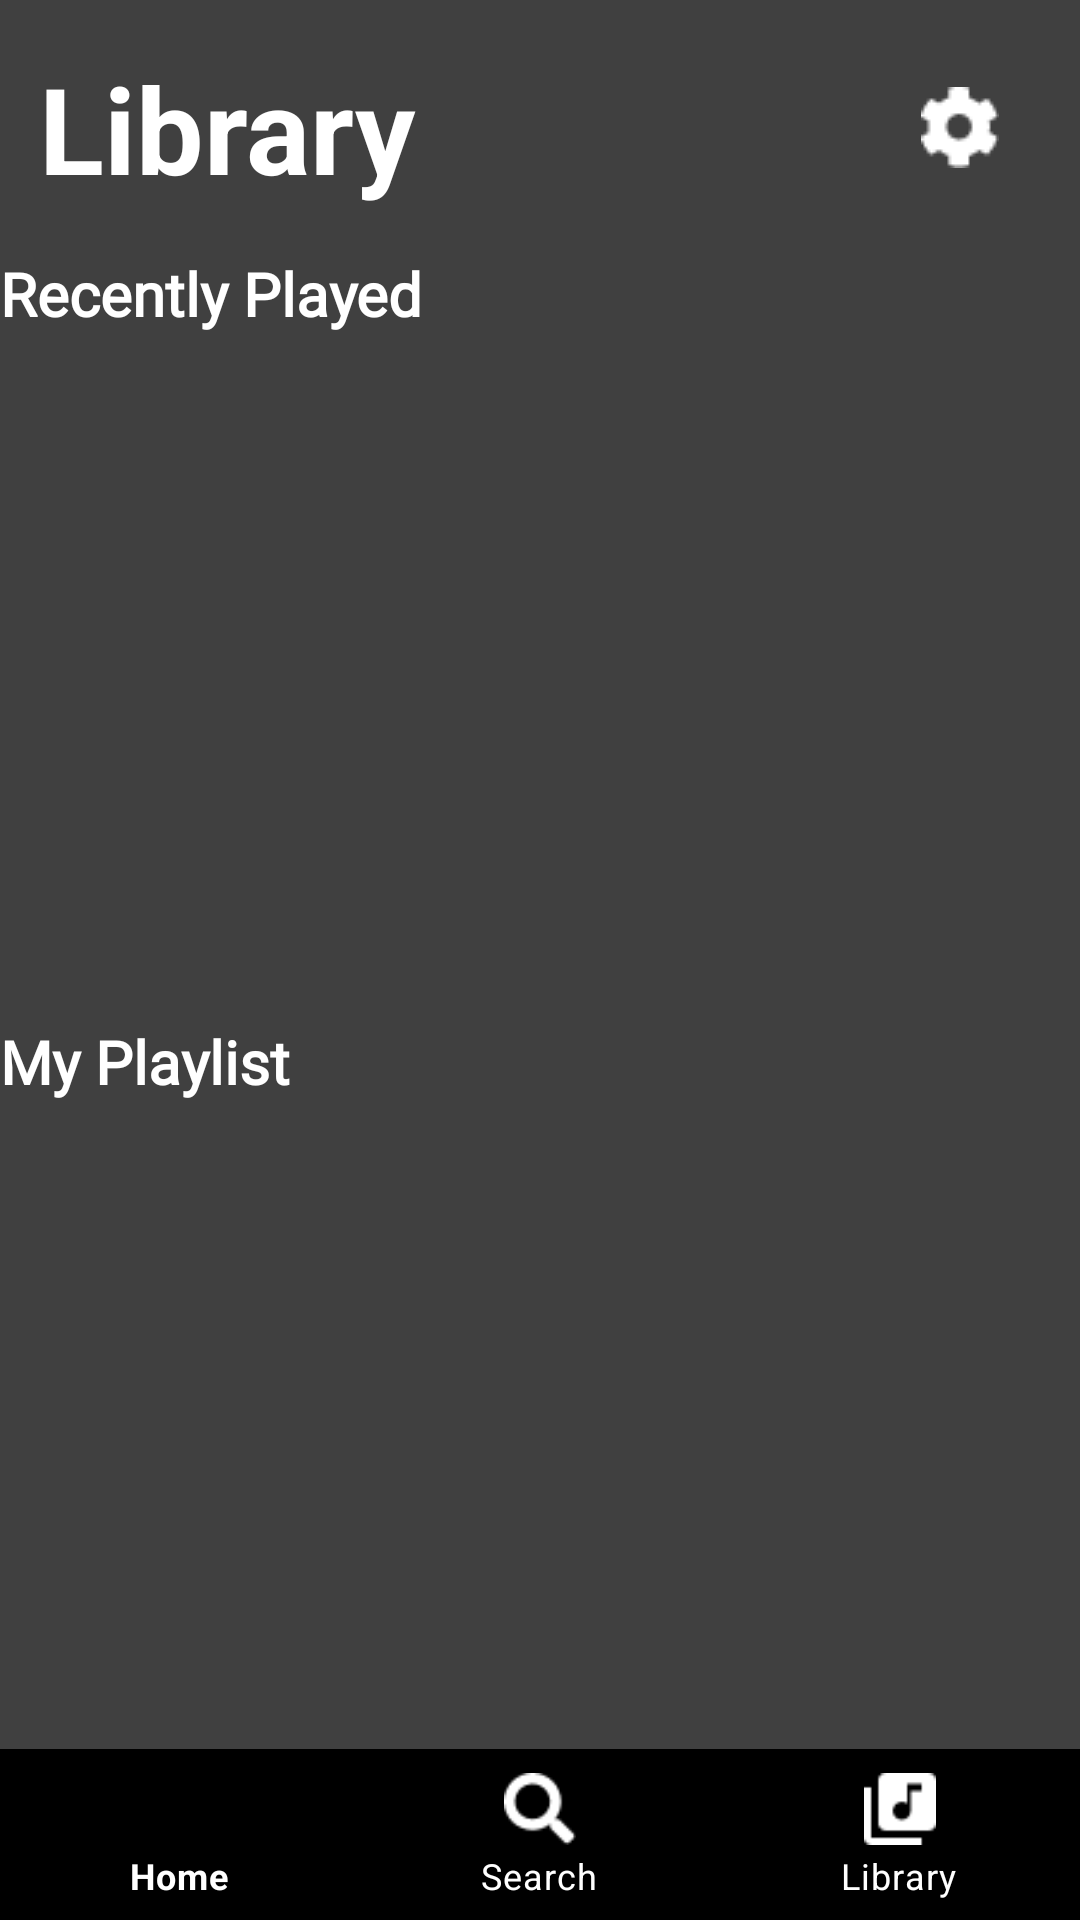

Icons on this 1080px x 1920px Android screen, each with the point to tap as [x,y]:
settingsicon: [960,127]
